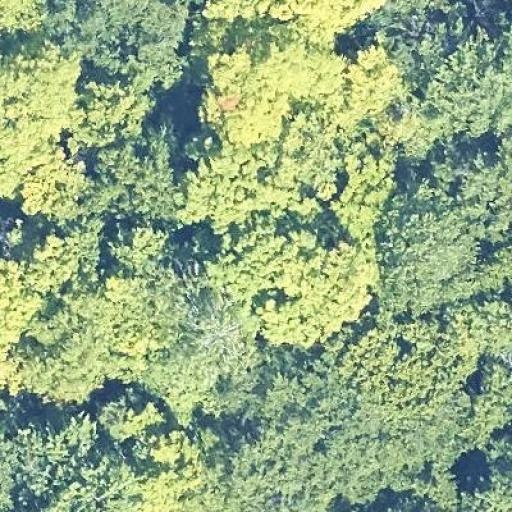tree-top: (367, 142, 511, 310), (228, 374, 384, 512), (0, 250, 148, 394), (216, 226, 368, 344), (202, 26, 347, 144), (0, 34, 83, 218), (343, 303, 473, 417), (181, 132, 326, 232), (0, 399, 125, 510), (26, 0, 193, 79), (76, 116, 194, 226), (402, 16, 512, 129), (160, 284, 254, 394), (196, 0, 398, 45), (125, 437, 213, 512), (93, 380, 160, 449)
